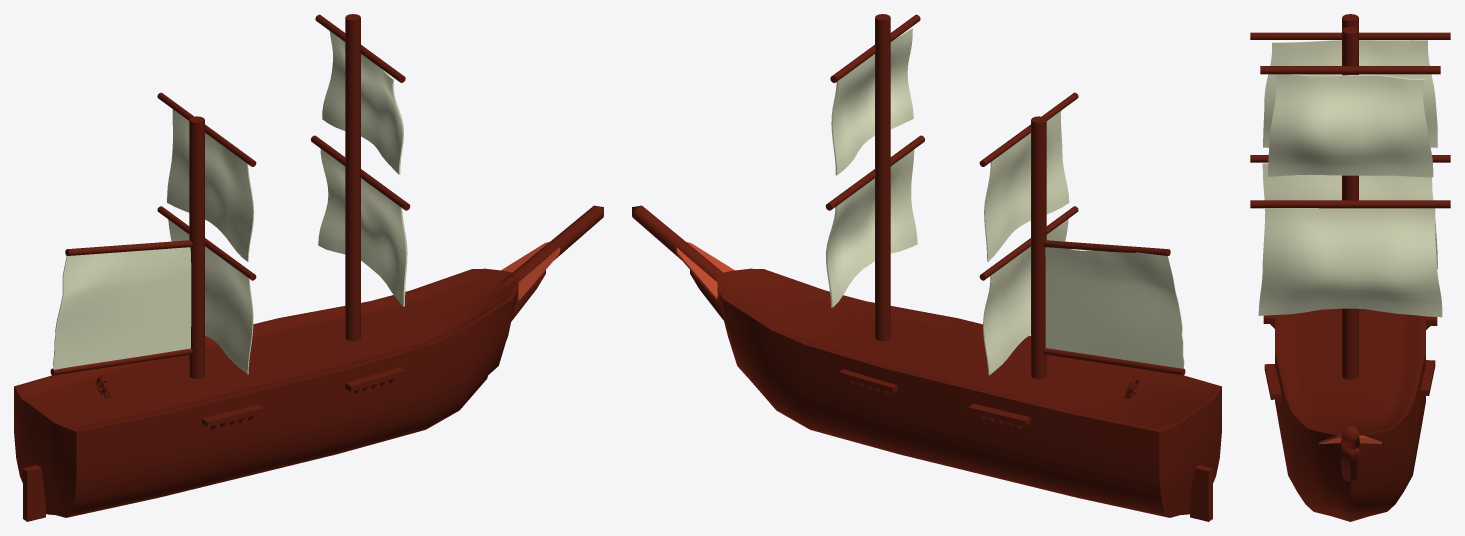
File: Boat_02.fbx
3 views of the same model, side by side, from view 1: azimuth 30°, elevation 25°; view 2: azimuth 150°, elevation 25°; view 3: azimuth 270°, elevation 25° (orthographic). The views are drawn at different scales.
Parts seen in each view (by area): view 1: Casco, VelaCangreja, VelaSecundaria2, VelaFrontal, MastilFrontal, VelaFrontal_2, VelaSecundaria, MastilSecundario, PaloBaupres, Timon, Pico, Botavara (+6 smaller); view 2: Casco, VelaCangreja, VelaFrontal, VelaSecundaria2, VelaFrontal_2, MastilFrontal, VelaSecundaria, MastilSecundario, PaloBaupres, Timon, Botavara, Pico (+6 smaller); view 3: Casco, VelaFrontal, VelaFrontal_2, VelaSecundaria2, VelaSecundaria, MastilFrontal, PaloVelaFrontal, PaloVelaFrontal_2, PaloVelaSecundaria2, Soporte, SujeccionVelas_3, PaloBaupres (+3 smaller).
Boxes of the visible parts, box(x1,y1,x2,y2) form: Casco: box(14, 268, 518, 517); VelaCangreja: box(53, 247, 191, 369); VelaSecundaria2: box(167, 109, 253, 261); VelaFrontal: box(318, 148, 407, 306); MastilFrontal: box(345, 14, 360, 341); VelaFrontal_2: box(322, 31, 403, 174); VelaSecundaria: box(168, 219, 253, 374); MastilSecundario: box(189, 116, 204, 378); PaloBaupres: box(500, 205, 603, 285); Timon: box(23, 465, 45, 521); Pico: box(65, 240, 192, 255); Botavara: box(50, 348, 192, 375); Casco: box(717, 268, 1221, 517); VelaCangreja: box(1045, 247, 1184, 368); VelaFrontal: box(826, 149, 917, 307); VelaSecundaria2: box(984, 111, 1069, 261); VelaFrontal_2: box(831, 28, 913, 175); MastilFrontal: box(875, 14, 890, 341); VelaSecundaria: box(983, 219, 1068, 375); MastilSecundario: box(1031, 116, 1046, 378); PaloBaupres: box(632, 205, 735, 291); Timon: box(1190, 465, 1212, 521); Botavara: box(1043, 348, 1185, 375); Pico: box(1043, 240, 1170, 255); Casco: box(1275, 308, 1425, 521); VelaFrontal: box(1258, 208, 1442, 317); VelaFrontal_2: box(1267, 74, 1433, 177); VelaSecundaria2: box(1263, 40, 1437, 147); VelaSecundaria: box(1262, 163, 1437, 268); MastilFrontal: box(1342, 26, 1358, 379); PaloVelaFrontal: box(1250, 200, 1450, 208); PaloVelaFrontal_2: box(1260, 66, 1440, 74); PaloVelaSecundaria2: box(1250, 32, 1450, 39); Soporte: box(1341, 447, 1359, 481); SujeccionVelas_3: box(1264, 364, 1281, 399); PaloBaupres: box(1340, 425, 1360, 450).
Size of the model in its own units: 1295 by 904 by 360.
